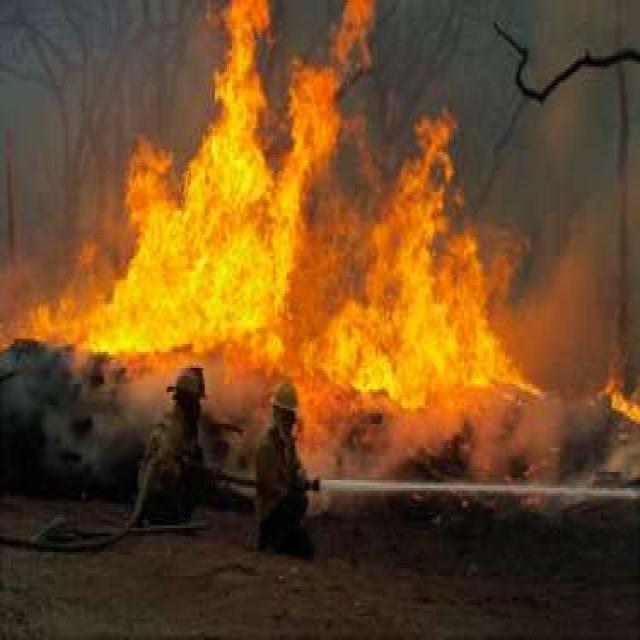Smoke: (499, 185, 618, 398), (530, 0, 604, 169)
